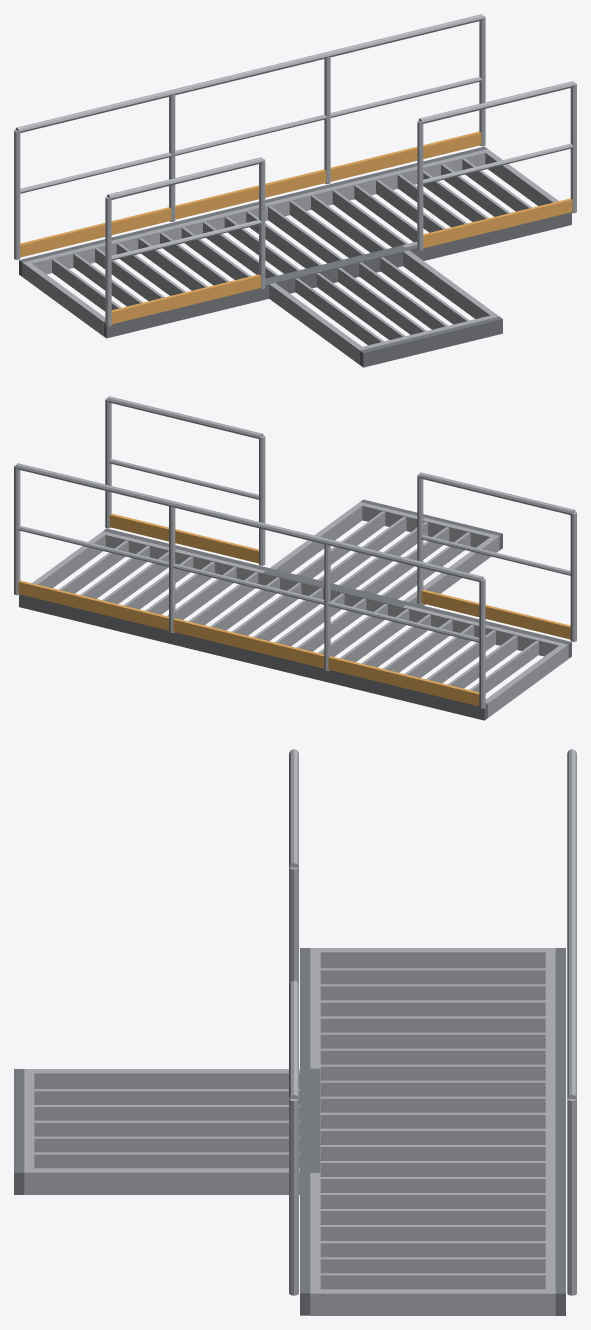
File: modular-greybox-architecture-kit-catwalk-tee-fc214f56__22882.glb
The picture shows the model from 3 angles, top to bottom: view 1: azimuth 30°, elevation 25°; view 2: azimuth 150°, elevation 25°; view 3: azimuth 270°, elevation 25°; orthographic projection. The views are drawn at different scales.
Visible parts, largest first — view 1: catwalk-tee; view 2: catwalk-tee; view 3: catwalk-tee.
Part boxes in pixels (x1=…): catwalk-tee: x1=14, y1=14, x2=576, y2=367; catwalk-tee: x1=14, y1=396, x2=576, y2=720; catwalk-tee: x1=14, y1=749, x2=576, y2=1315.
Size of the model in its own units: 4.05 by 1.19 by 2.75.
